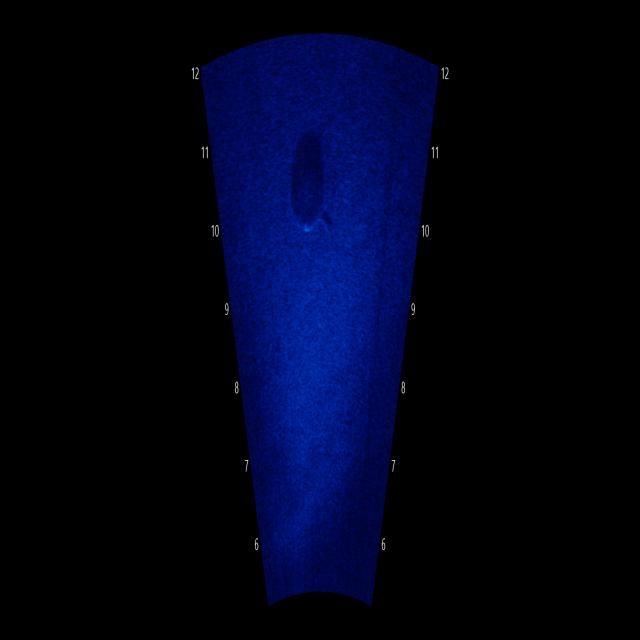circle: (289, 154, 327, 234)
